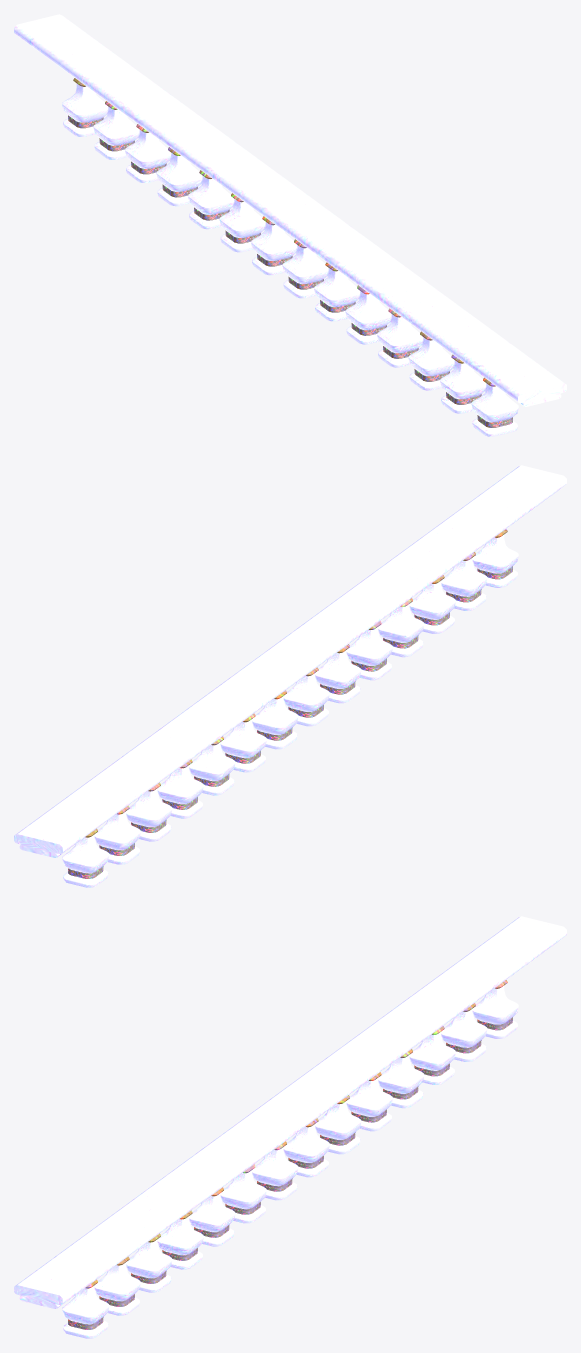
File: banister_SM.fbx
3 renders of one model, top to bottom at view 1: azimuth 30°, elevation 25°; view 2: azimuth 150°, elevation 25°; view 3: azimuth 330°, elevation 25°, orthographic.
Parts seen in each view (by area): view 1: banister_SM_LOD0; view 2: banister_SM_LOD0; view 3: banister_SM_LOD0.
Part boxes in pixels (x1,y1,x2,y2): banister_SM_LOD0: (14,14,566,436); banister_SM_LOD0: (14,465,566,887); banister_SM_LOD0: (14,916,566,1338).
Bounding box in the file's own units: 57.48 × 1024 × 82.81.
Materials: 3 (2 with a texture image).
